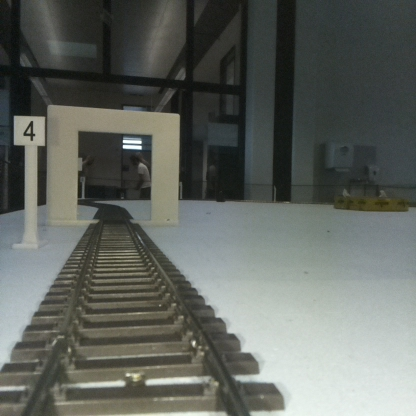white-info-4: (13, 115, 45, 246)
